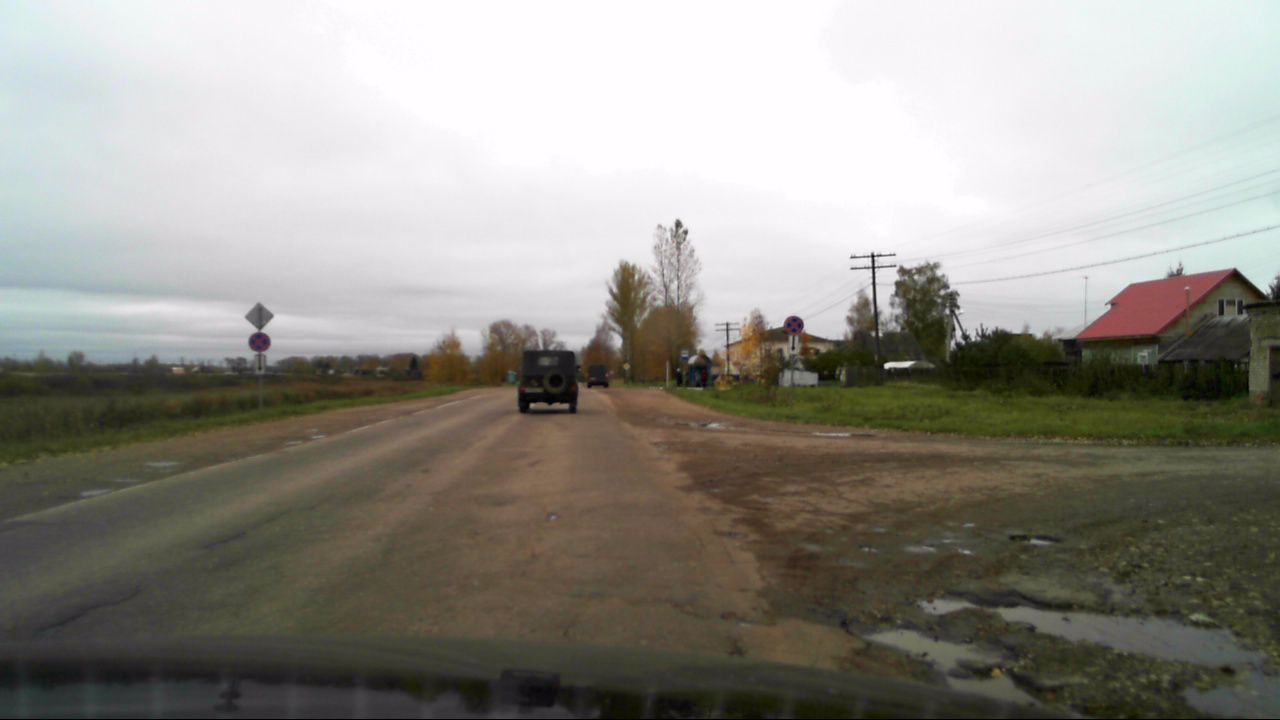No Parking: (248, 330, 270, 353)
